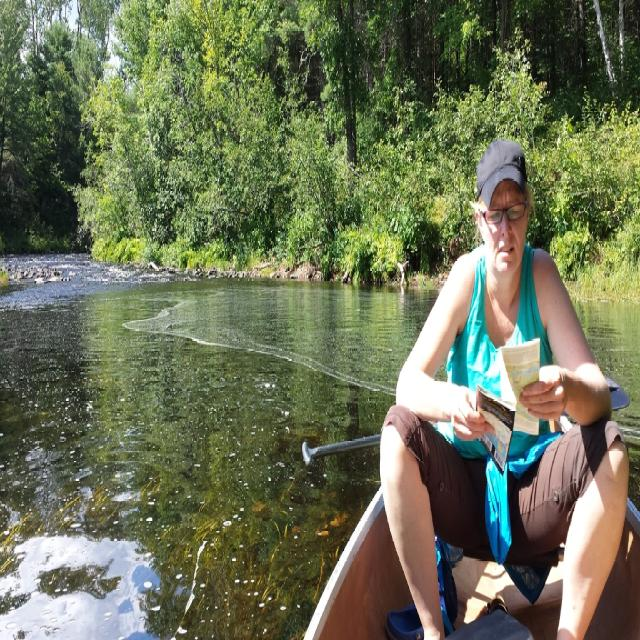Boat: (303, 486, 640, 639)
